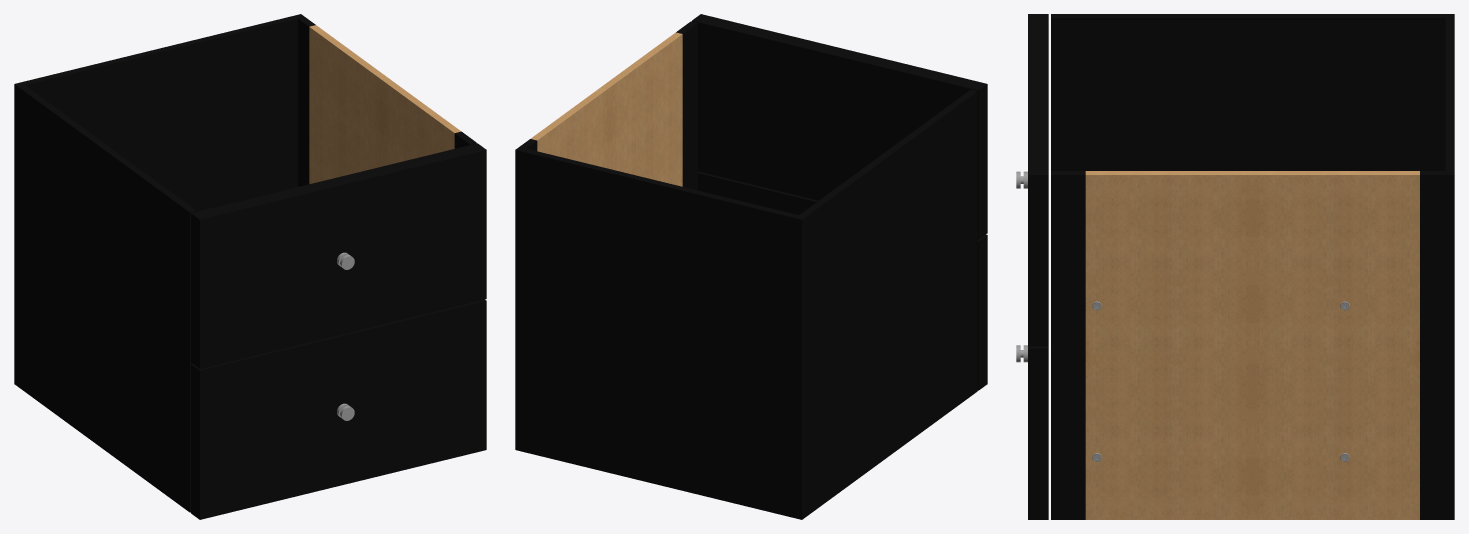
The model's file is IKE170002.obj.
3 renders of one model, left to right at view 1: azimuth 30°, elevation 25°; view 2: azimuth 150°, elevation 25°; view 3: azimuth 270°, elevation 25°, orthographic. The views are drawn at different scales.
Parts seen in each view (by area): view 1: Revit_008539_11, Revit_021853_14; view 2: Revit_008539_11, Revit_021853_14; view 3: Revit_021853_14, Revit_008539_11.
Boxes of the visible parts, left/top/right/bottom form: Revit_008539_11: left=14, top=14, right=486, bottom=519; Revit_021853_14: left=309, top=25, right=461, bottom=184; Revit_008539_11: left=515, top=14, right=987, bottom=519; Revit_021853_14: left=530, top=32, right=682, bottom=186; Revit_021853_14: left=1085, top=171, right=1419, bottom=519; Revit_008539_11: left=1028, top=14, right=1454, bottom=519.
Size of the model in its own units: 331 by 330 by 380.
3 materials, 1 textured.
